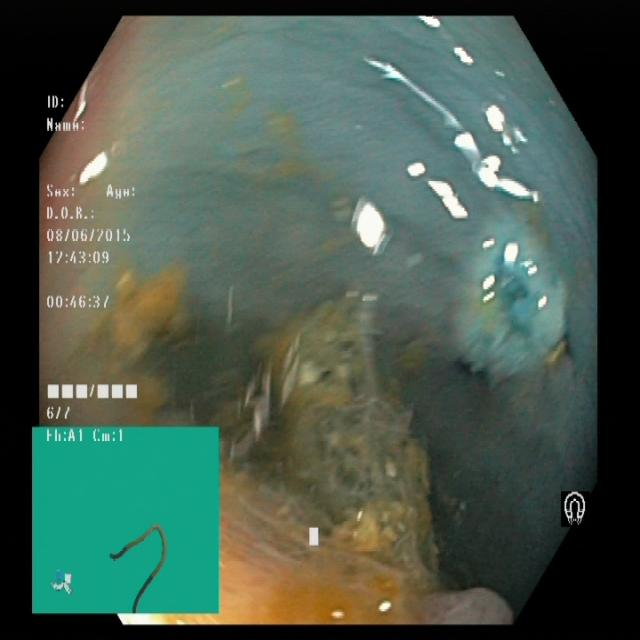dyed-lifted-polyps: (441, 208, 574, 368)
